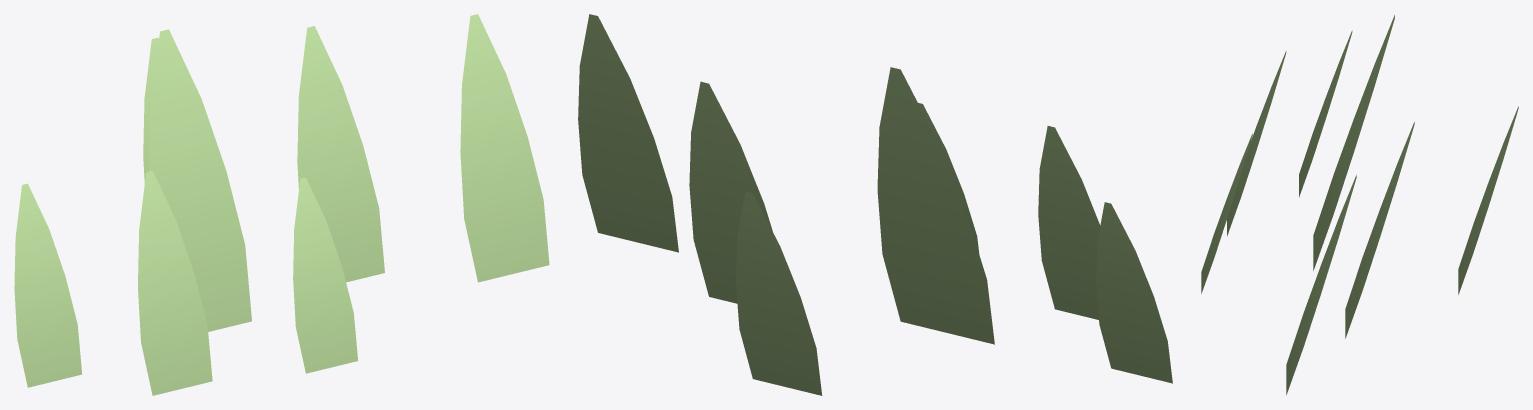
Rendered from [OBJ]Grama.fbx.
The picture shows the model from 3 angles, left to right: view 1: azimuth 30°, elevation 25°; view 2: azimuth 150°, elevation 25°; view 3: azimuth 270°, elevation 25°; orthographic projection. The views are drawn at different scales.
Visible parts, largest first — view 1: [OBJ]Grama; view 2: [OBJ]Grama; view 3: [OBJ]Grama.
Boxes of the visible parts, x1=… form: [OBJ]Grama: x1=14, y1=14, x2=549, y2=395; [OBJ]Grama: x1=578, y1=14, x2=1172, y2=395; [OBJ]Grama: x1=1201, y1=15, x2=1518, y2=395.
Bounding box in the file's own units: 54.31 × 27.03 × 32.14.
